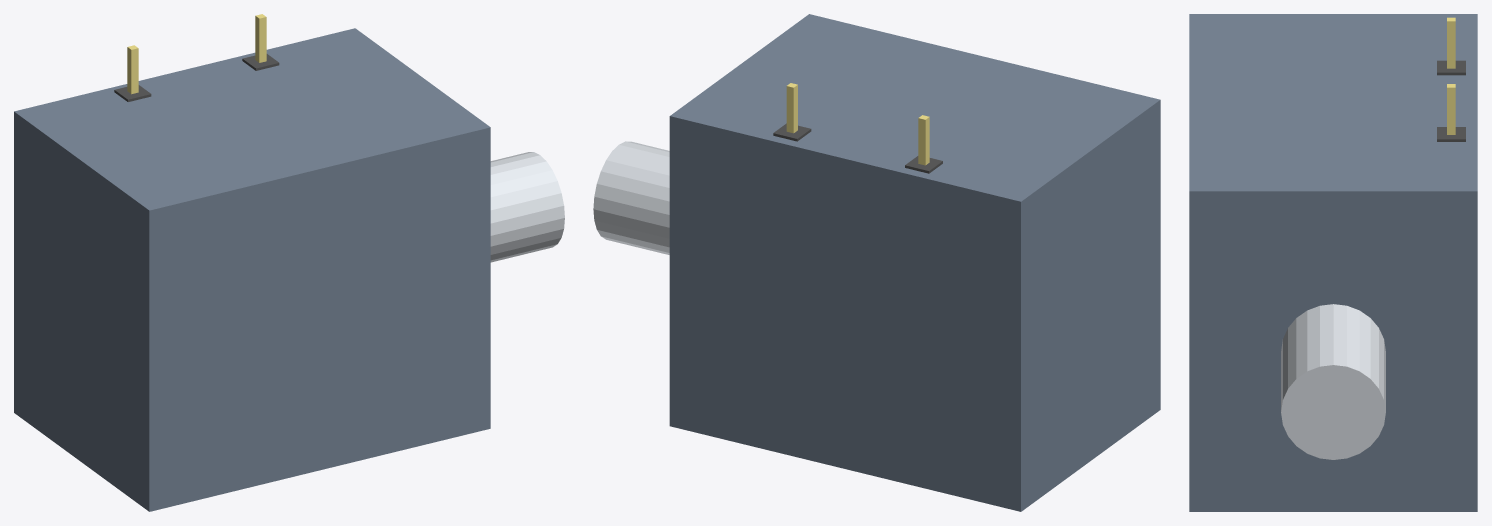
The model's file is solenoid-12v-push-pull.glb.
3 views of the same model, side by side, from view 1: azimuth 30°, elevation 25°; view 2: azimuth 150°, elevation 25°; view 3: azimuth 270°, elevation 25° (orthographic). The views are drawn at different scales.
Visible parts, largest first — view 1: solenoid-12v-push-pull_mesh; view 2: solenoid-12v-push-pull_mesh; view 3: solenoid-12v-push-pull_mesh.
Part boxes in pixels (<box>): solenoid-12v-push-pull_mesh: <box>14,14,564,511</box>; solenoid-12v-push-pull_mesh: <box>593,14,1160,511</box>; solenoid-12v-push-pull_mesh: <box>1189,14,1477,511</box>.
Bounding box in the file's own units: 43 × 31.2 × 22.
